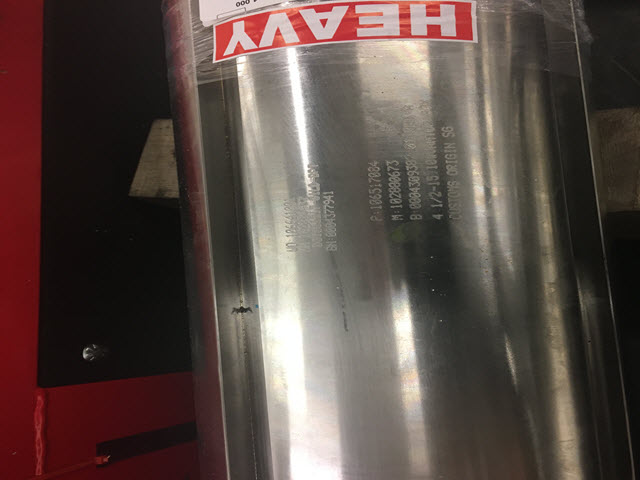character: (406, 213, 424, 223), (430, 211, 445, 222), (368, 214, 385, 223), (429, 196, 446, 204), (390, 213, 405, 222), (429, 201, 445, 209), (425, 191, 443, 198), (388, 203, 405, 210), (368, 204, 385, 211), (369, 187, 383, 195), (424, 181, 441, 187), (386, 171, 403, 177), (386, 165, 400, 172), (408, 187, 422, 194), (384, 159, 400, 165), (368, 194, 383, 200), (409, 180, 419, 189), (390, 198, 403, 204), (429, 185, 440, 192), (368, 182, 383, 187), (369, 178, 381, 184)
